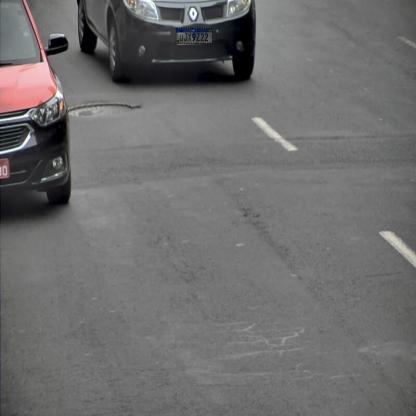PlacaM: (176, 28, 212, 44)
